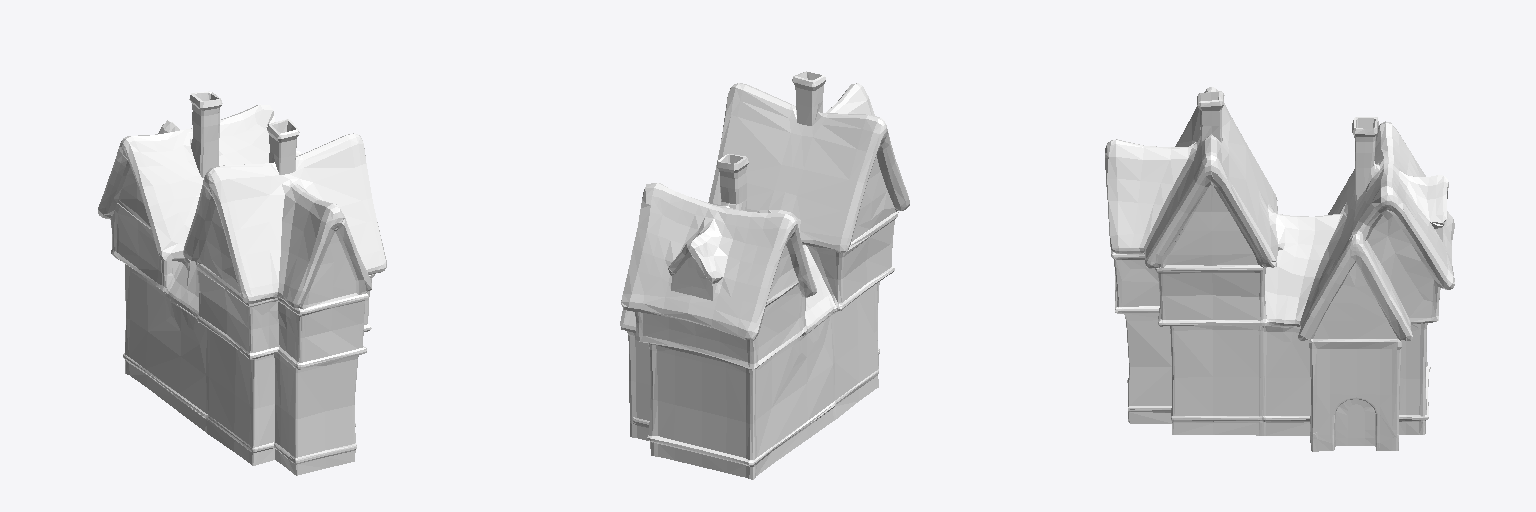
File: House-5.obj
3 renders of one model, left to right at view 1: azimuth 30°, elevation 25°; view 2: azimuth 150°, elevation 25°; view 3: azimuth 270°, elevation 25°, orthographic.
Visible parts, largest first — view 1: House_5; view 2: House_5; view 3: House_5.
Part boxes in pixels (bbox=[...]): House_5: bbox=[98, 91, 386, 475]; House_5: bbox=[620, 71, 909, 479]; House_5: bbox=[1105, 87, 1454, 451].
Size of the model in its own units: 3.27 by 5.85 by 5.91.